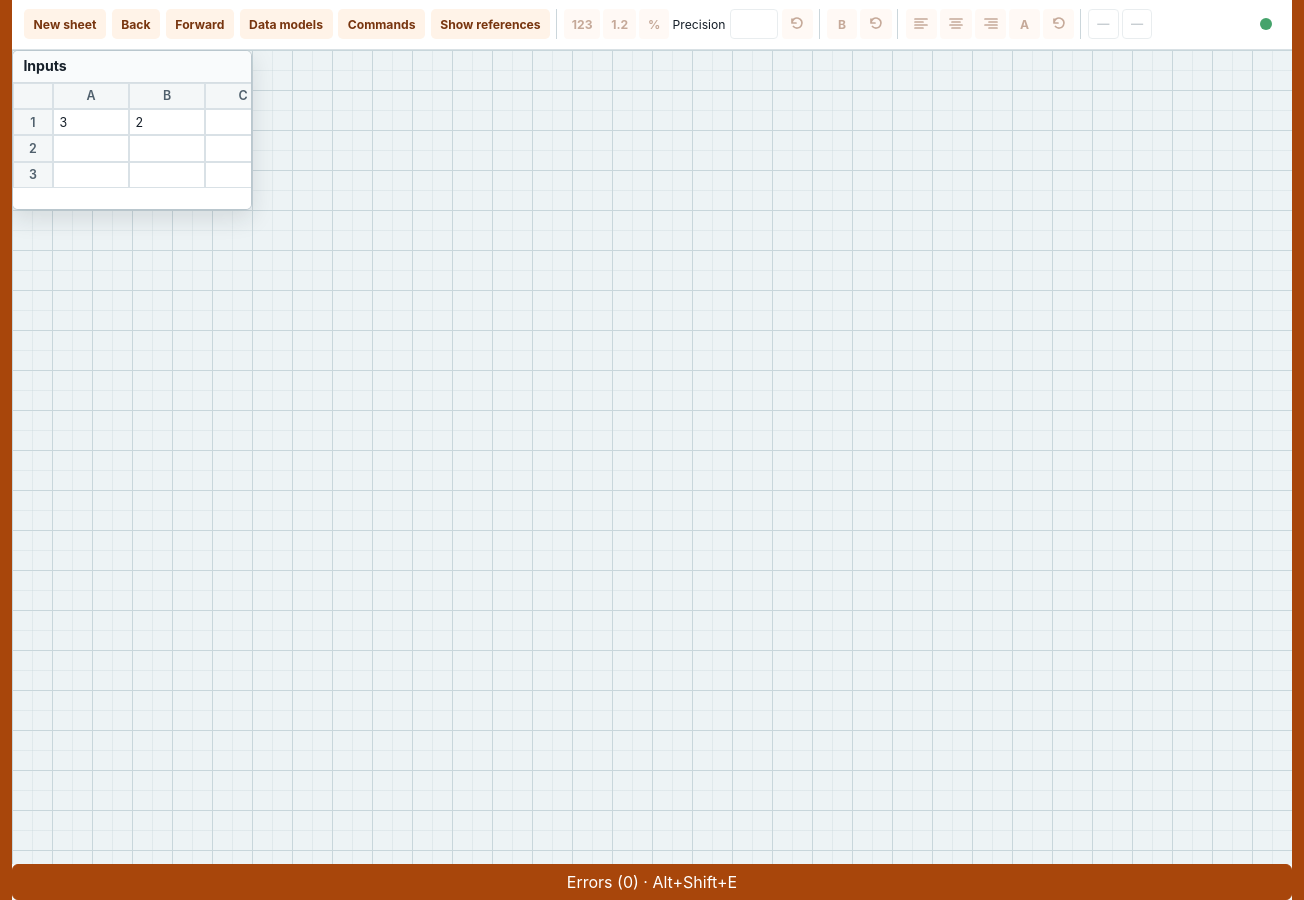
context-menu ownership in the composed workspace › keeps the actual body-portaled editor native, commits once and undoes once
The image size is (1304, 900).
Click the cell named "Inputs B1 cell" at (167, 122), box x1=129 y1=109 x2=205 y2=135
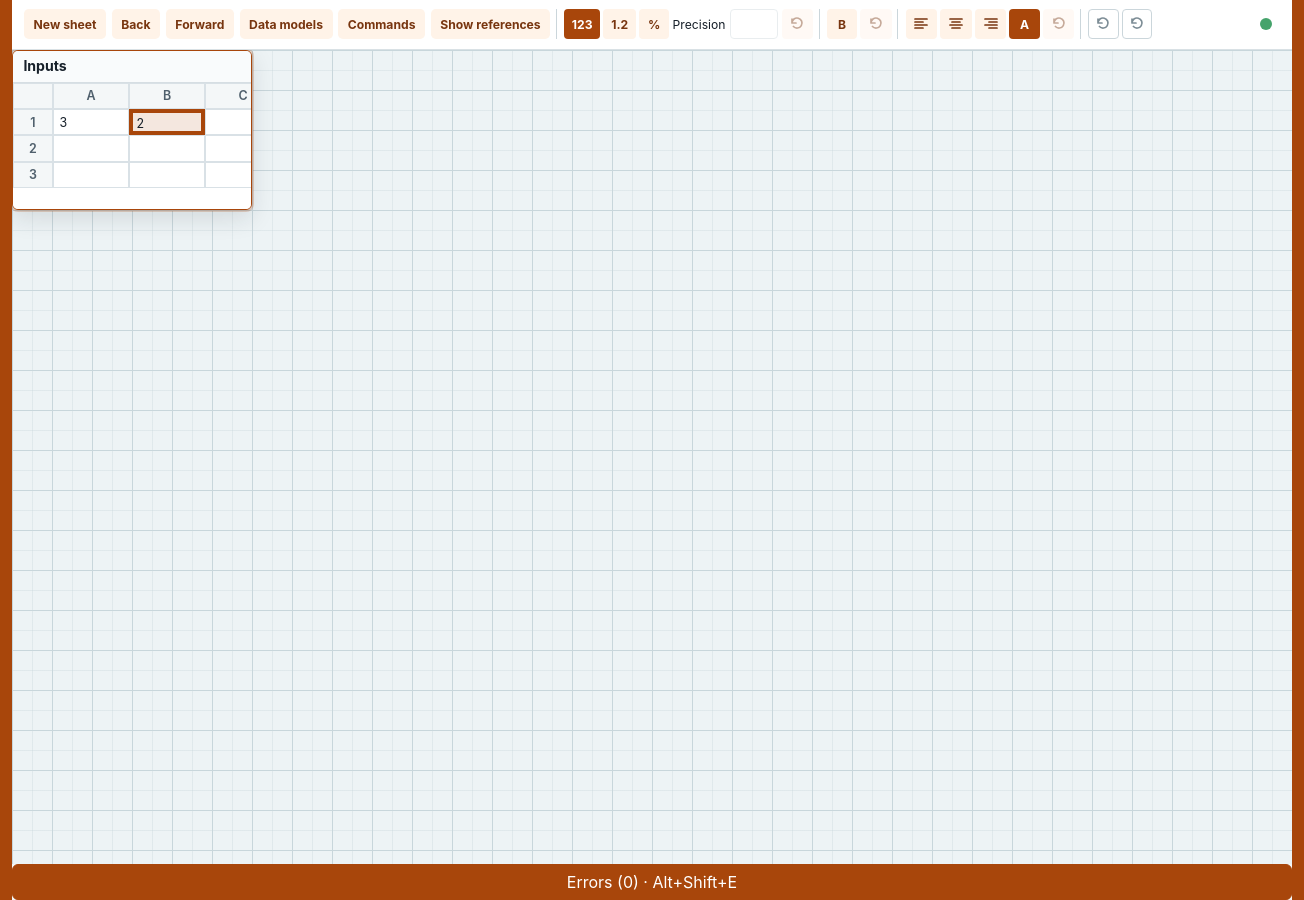
Press F2 in the cell "2", box x1=129 y1=109 x2=205 y2=135
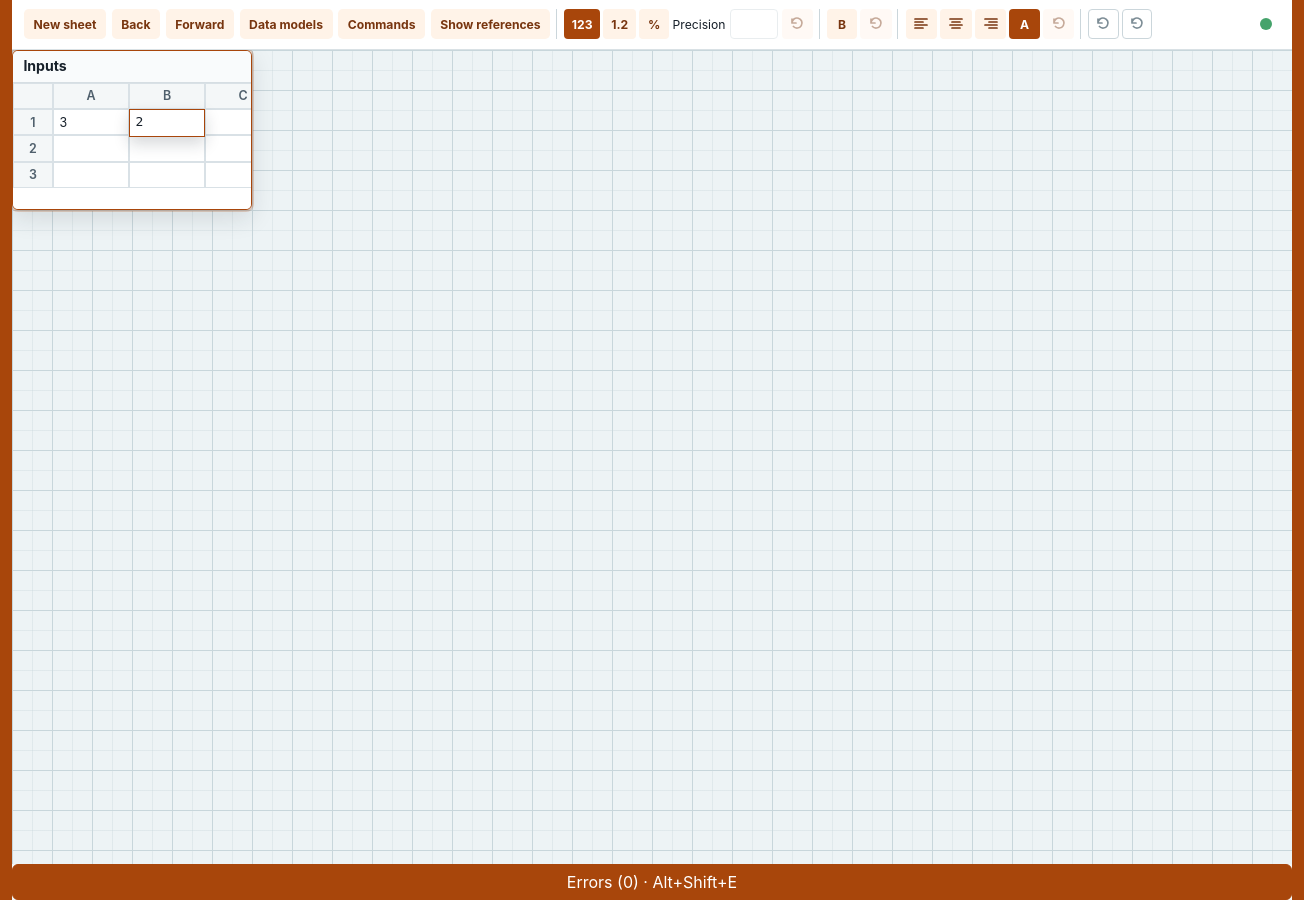
Replace the text in the text box with "draft text" at (167, 123), box x1=130 y1=110 x2=204 y2=136
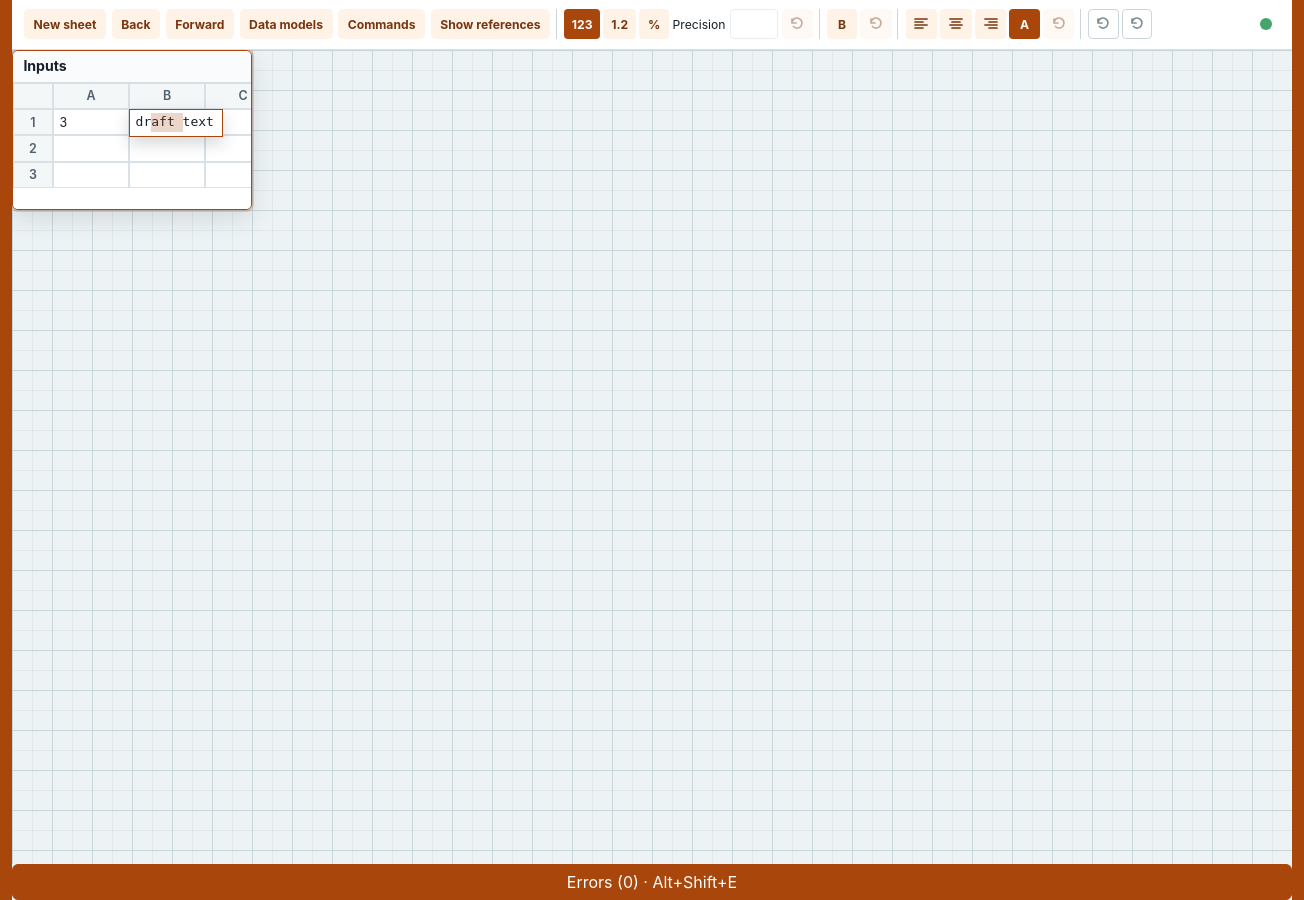
Right-click the text box at (176, 123), box x1=130 y1=110 x2=222 y2=136
Expected: the cell named "Inputs B1 cell" has attribute data-active-cell="true", x1=129 y1=109 x2=205 y2=135
Press Enter in the text box, box x1=130 y1=110 x2=222 y2=136
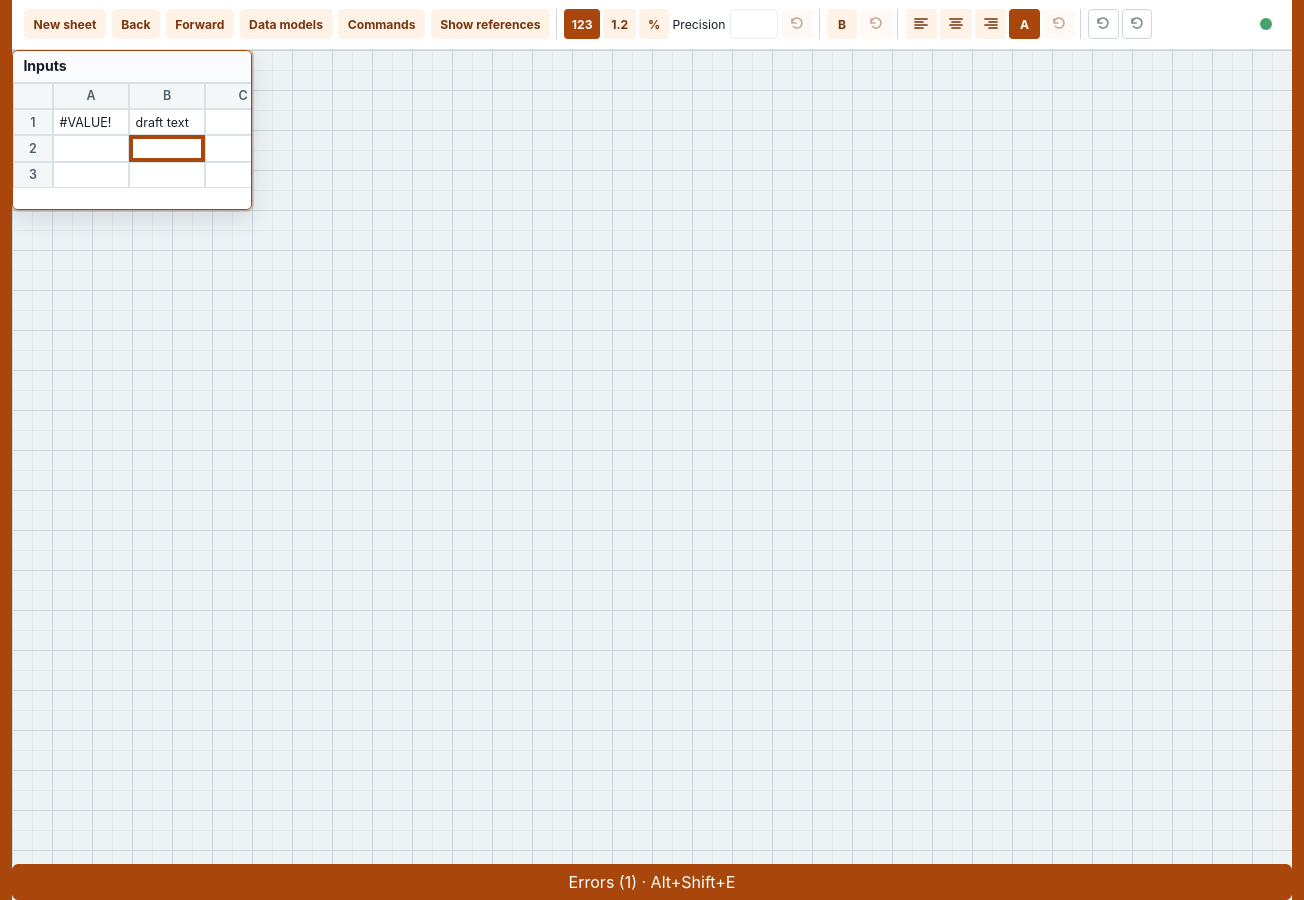
Expected: the cell "draft text" is shown
Press z in the cell "draft text", box x1=129 y1=109 x2=205 y2=135
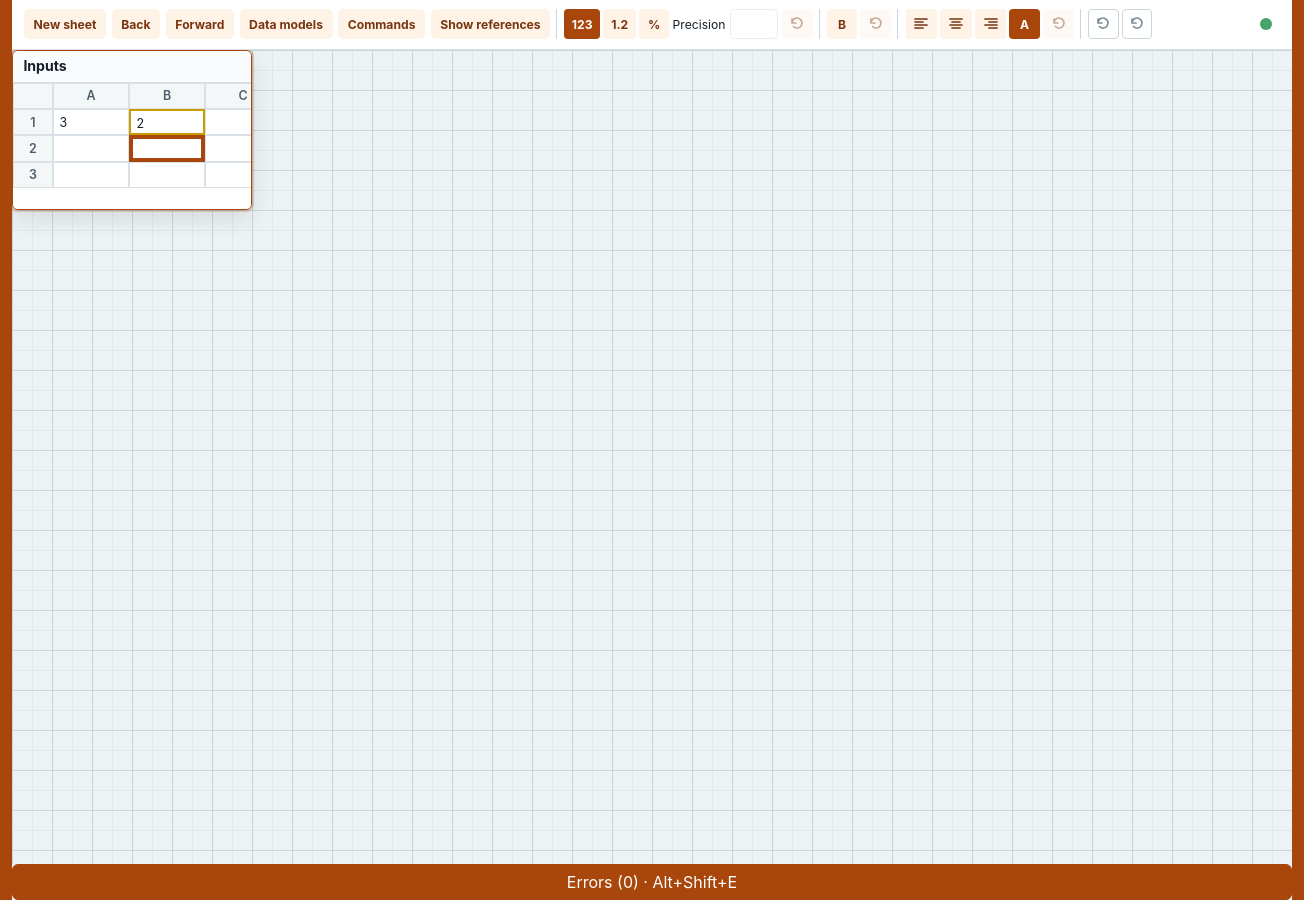
Expected: the cell "2" is shown, x1=129 y1=109 x2=205 y2=135
